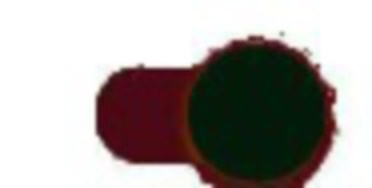Switch: (1, 1, 371, 187)
